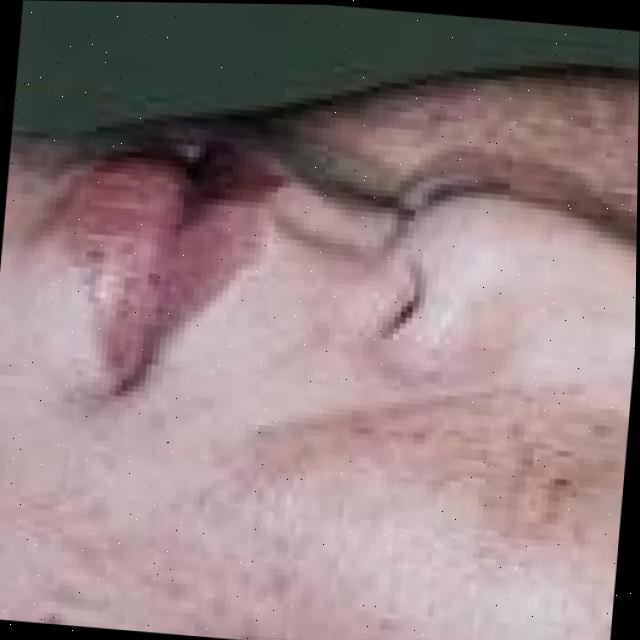Melasma: (150, 365, 575, 630), (475, 62, 638, 193)
